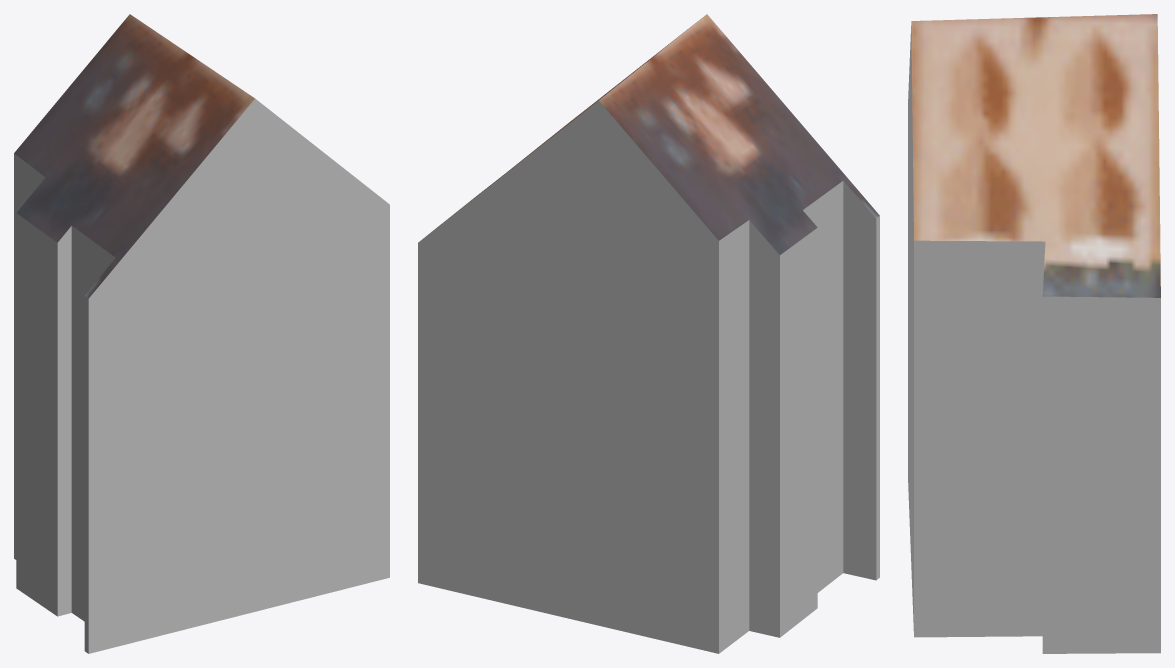
The model's file is DEBW_0010007Tx7R.gltf.
The picture shows the model from 3 angles, left to right: view 1: azimuth 30°, elevation 25°; view 2: azimuth 150°, elevation 25°; view 3: azimuth 270°, elevation 25°; orthographic projection. The views are drawn at different scales.
Parts seen in each view (by area): view 1: Z_UP; view 2: Z_UP; view 3: Z_UP.
Part boxes in pixels (x1,y1,x2,y2): Z_UP: [14, 14, 389, 653]; Z_UP: [418, 14, 879, 653]; Z_UP: [908, 14, 1160, 653].
Bounding box in the file's own units: 15.08 × 22.09 × 9.24.
Materials: 2 (1 with a texture image).
